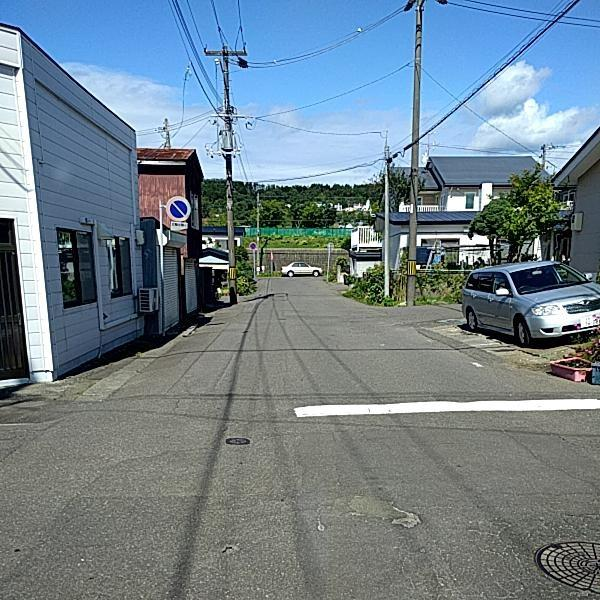pothole: (388, 501, 423, 530)
